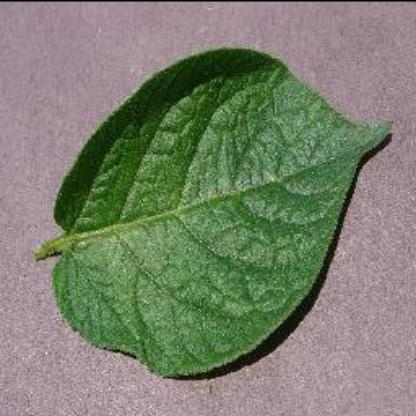Healthy-plant: (32, 48, 393, 385)
